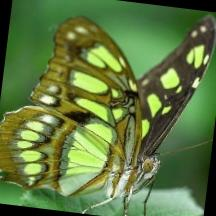butterfly: (0, 17, 216, 216)
